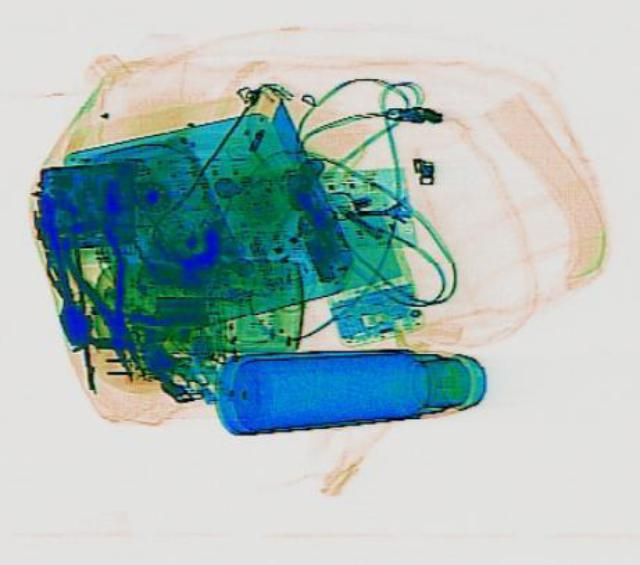Pliers: (42, 179, 172, 386)
